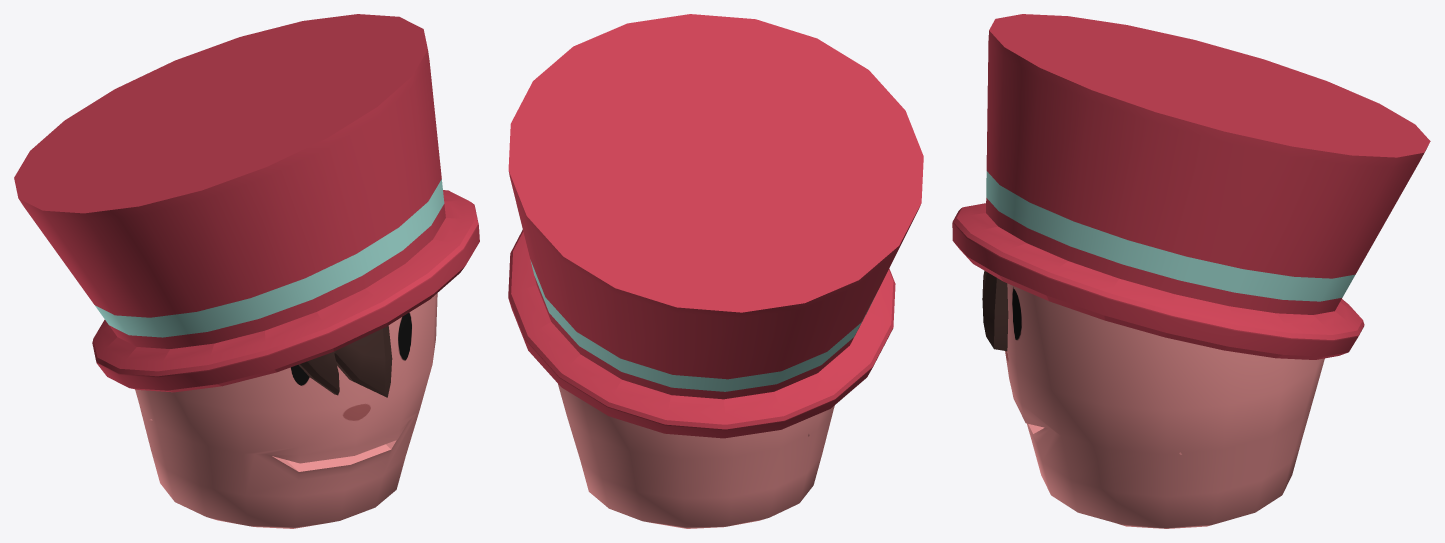
Rendered from Square_Redish_Skin.fbx.
3 views of the same model, side by side, from view 1: azimuth 30°, elevation 25°; view 2: azimuth 150°, elevation 25°; view 3: azimuth 270°, elevation 25° (orthographic). The views are drawn at different scales.
Visible parts, largest first — view 1: Square_Redish_hat, Square_Redish_head, Square_Redish_hair; view 2: Square_Redish_hat, Square_Redish_head; view 3: Square_Redish_hat, Square_Redish_head, Square_Redish_hair.
Boxes of the visible parts, x1,y1,x2,y2 form: Square_Redish_hat: [14, 14, 479, 392]; Square_Redish_head: [135, 293, 437, 528]; Square_Redish_hair: [298, 325, 392, 397]; Square_Redish_hat: [508, 14, 923, 438]; Square_Redish_head: [558, 384, 834, 528]; Square_Redish_hat: [952, 14, 1430, 359]; Square_Redish_head: [1005, 283, 1324, 528]; Square_Redish_hair: [982, 270, 1008, 351].
Bounding box in the file's own units: 12.51 × 13.19 × 12.52.
